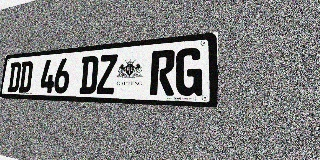4: (39, 59, 56, 93)
6: (53, 58, 71, 93)
D: (79, 55, 99, 94), (18, 61, 33, 93), (7, 62, 22, 92)
G: (175, 47, 203, 96)
R: (150, 49, 176, 96)
Z: (96, 54, 118, 94)
